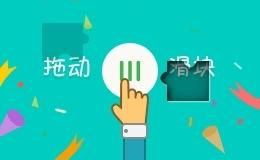target: (146, 40, 188, 81)
